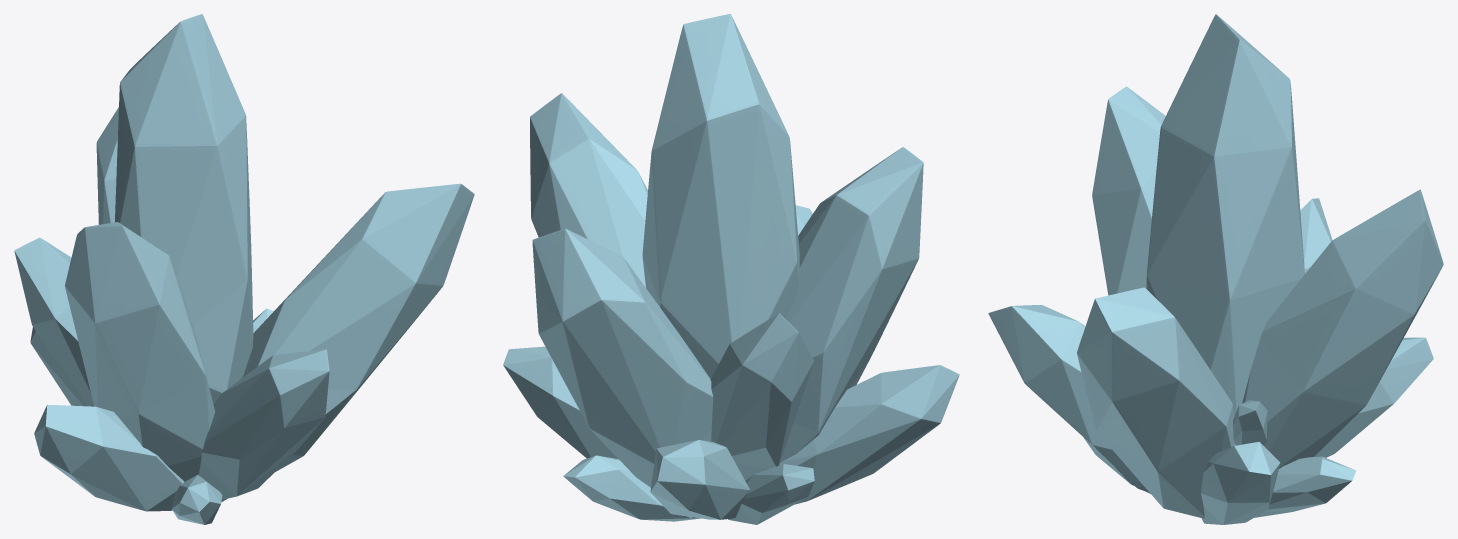
The picture shows the model from 3 angles, left to right: view 1: azimuth 30°, elevation 25°; view 2: azimuth 150°, elevation 25°; view 3: azimuth 270°, elevation 25°; orthographic projection. The views are drawn at different scales.
Parts seen in each view (by area): view 1: Icosphere, Icosphere.001, Icosphere.007, Icosphere.004, Icosphere.002, Icosphere.006, Icosphere.005, Icosphere.011, Icosphere.008; view 2: Icosphere, Icosphere.005, Icosphere.007, Icosphere.001, Icosphere.002, Icosphere.006, Icosphere.008, Icosphere.003, Icosphere.009, Icosphere.010; view 3: Icosphere, Icosphere.005, Icosphere.001, Icosphere.007, Icosphere.004, Icosphere.003, Icosphere.009, Icosphere.008, Icosphere.006, Icosphere.012.
Part boxes in pixels (x1,y1,x2,y2): Icosphere: (115,14,253,405); Icosphere.001: (221,183,474,501); Icosphere.007: (65,222,214,481); Icosphere.004: (198,349,329,499); Icosphere.002: (34,405,183,511); Icosphere.006: (14,237,94,406); Icosphere.005: (96,107,118,224); Icosphere.011: (171,475,222,524); Icosphere.008: (30,327,89,406); Icosphere: (642,14,799,378); Icosphere.005: (532,228,713,487); Icosphere.007: (745,147,923,480); Icosphere.001: (530,93,647,287); Icosphere.002: (779,365,959,504); Icosphere.006: (710,313,813,480); Icosphere.008: (650,440,749,519); Icosphere.003: (503,346,617,458); Icosphere.009: (563,455,700,521); Icosphere.010: (728,464,814,524); Icosphere: (1146,14,1304,416); Icosphere.005: (1242,189,1443,468); Icosphere.001: (1077,287,1235,518); Icosphere.007: (1092,86,1165,295); Icosphere.004: (988,305,1149,492); Icosphere.003: (1201,442,1280,524); Icosphere.009: (1254,456,1355,517); Icosphere.008: (1314,337,1433,457); Icosphere.006: (1300,198,1332,273); Icosphere.012: (1233,400,1267,445).
Size of what is drawn, in the model's own units: 303 by 335 by 280.
